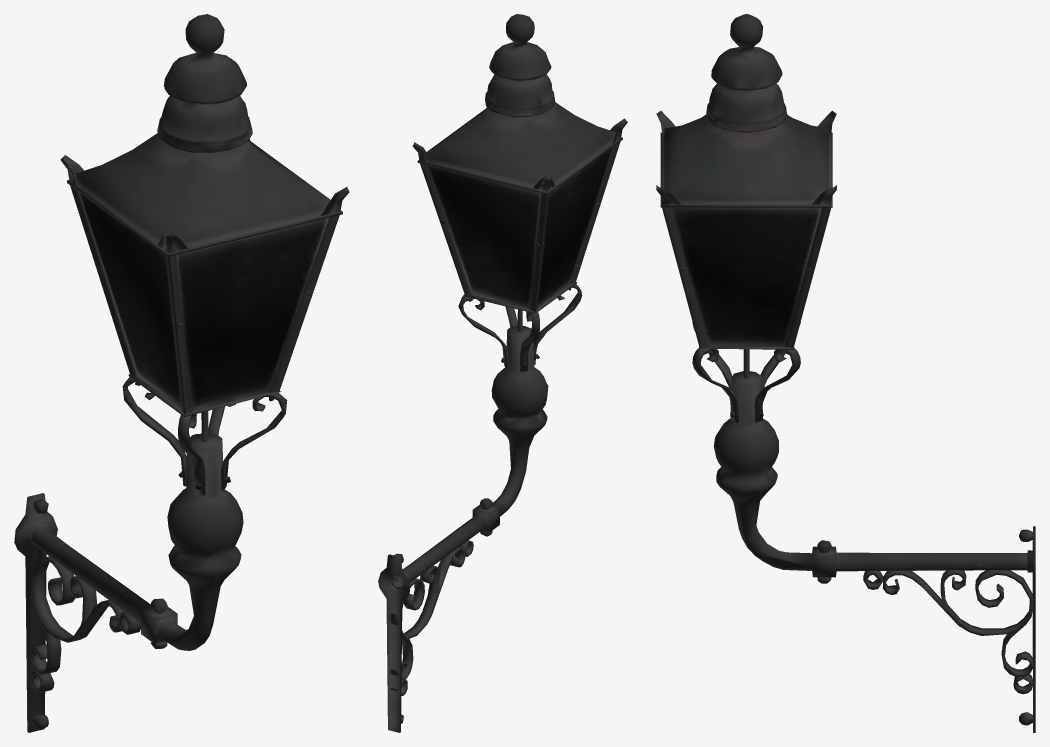
The model's file is street_lamp_02.glb.
3 views of the same model, side by side, from view 1: azimuth 30°, elevation 25°; view 2: azimuth 150°, elevation 25°; view 3: azimuth 270°, elevation 25° (orthographic). The views are drawn at different scales.
Visible parts, largest first — view 1: street_lamp_02; view 2: street_lamp_02; view 3: street_lamp_02.
Boxes of the visible parts, box(x1,y1,x2,y2) form: street_lamp_02: box(14, 14, 349, 732); street_lamp_02: box(378, 14, 627, 732); street_lamp_02: box(656, 14, 1035, 732).
Bounding box in the file's own units: 0.3848 × 1.67 × 0.8054.
Materials: 2 (2 with a texture image).
